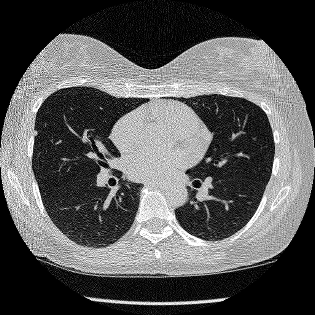nodule: (33, 131, 37, 135)
